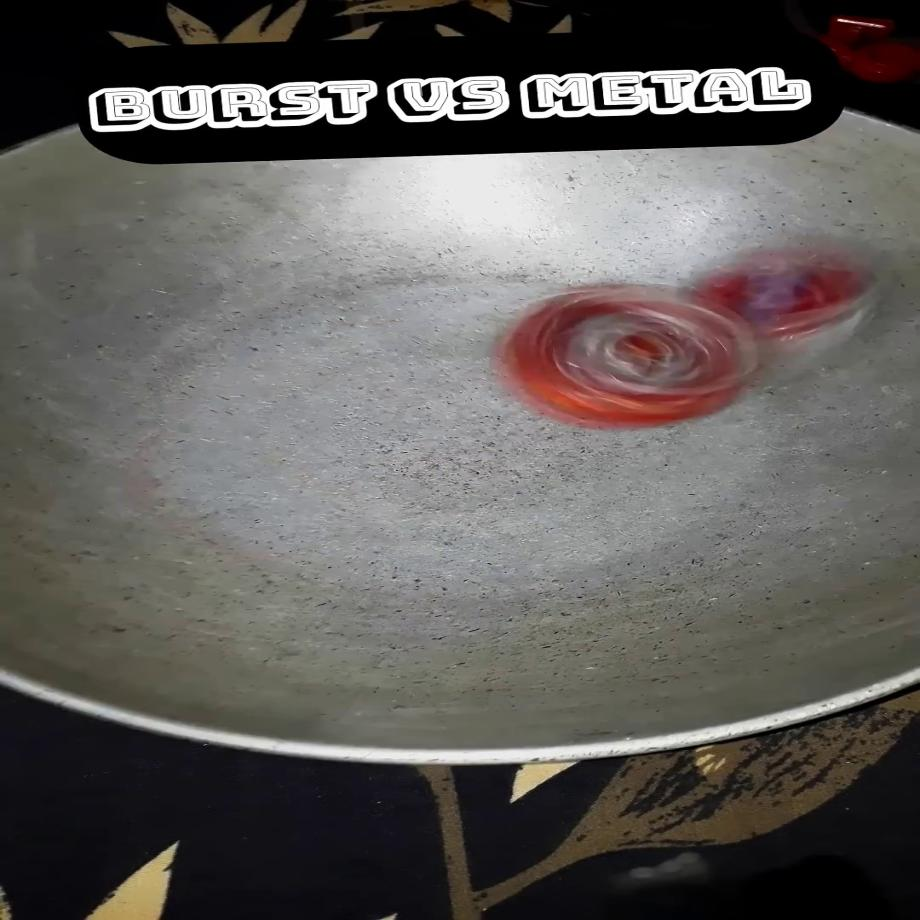beyblade: (484, 278, 766, 442), (675, 226, 884, 366)
